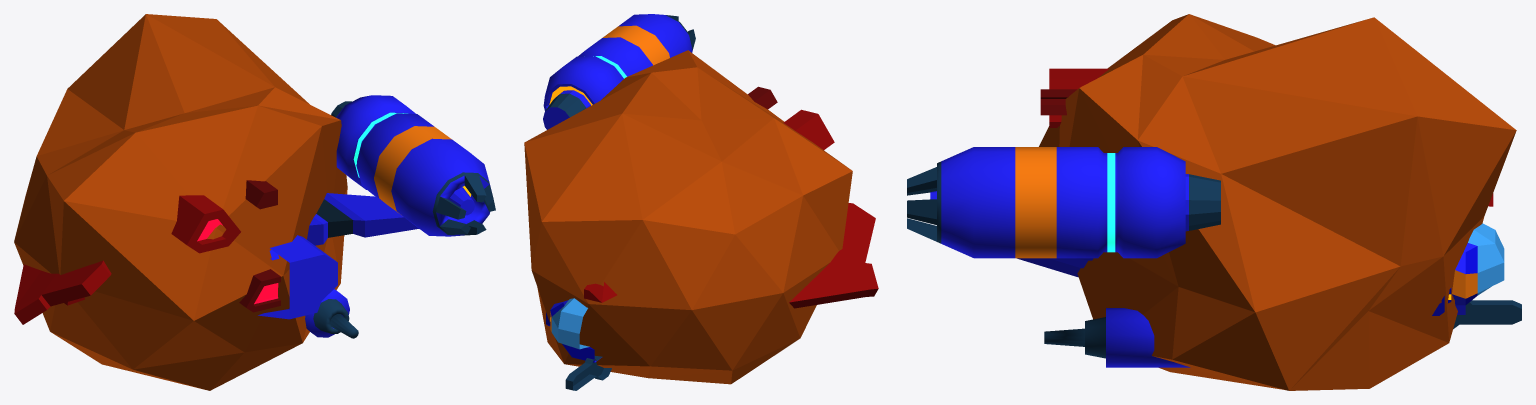
File: asteroid.glb
3 views of the same model, side by side, from view 1: azimuth 30°, elevation 25°; view 2: azimuth 150°, elevation 25°; view 3: azimuth 270°, elevation 25° (orthographic). The views are drawn at different scales.
Visible parts, largest first — view 1: Asteroid, PlayerHero, Enemy; view 2: Asteroid, PlayerHero, Enemy; view 3: Asteroid, PlayerHero, Enemy.
Boxes of the visible parts, x1,y1,x2,y2 form: Asteroid: (14, 14, 347, 390); PlayerHero: (258, 95, 495, 338); Enemy: (14, 180, 280, 324); Asteroid: (524, 50, 852, 384); PlayerHero: (543, 14, 695, 390); Enemy: (584, 86, 878, 308); Asteroid: (1039, 14, 1516, 390); PlayerHero: (907, 147, 1521, 367); Enemy: (1040, 68, 1493, 206).
Size of the model in its own units: 2.49 by 1.93 by 2.92.
1 material, 1 textured.
